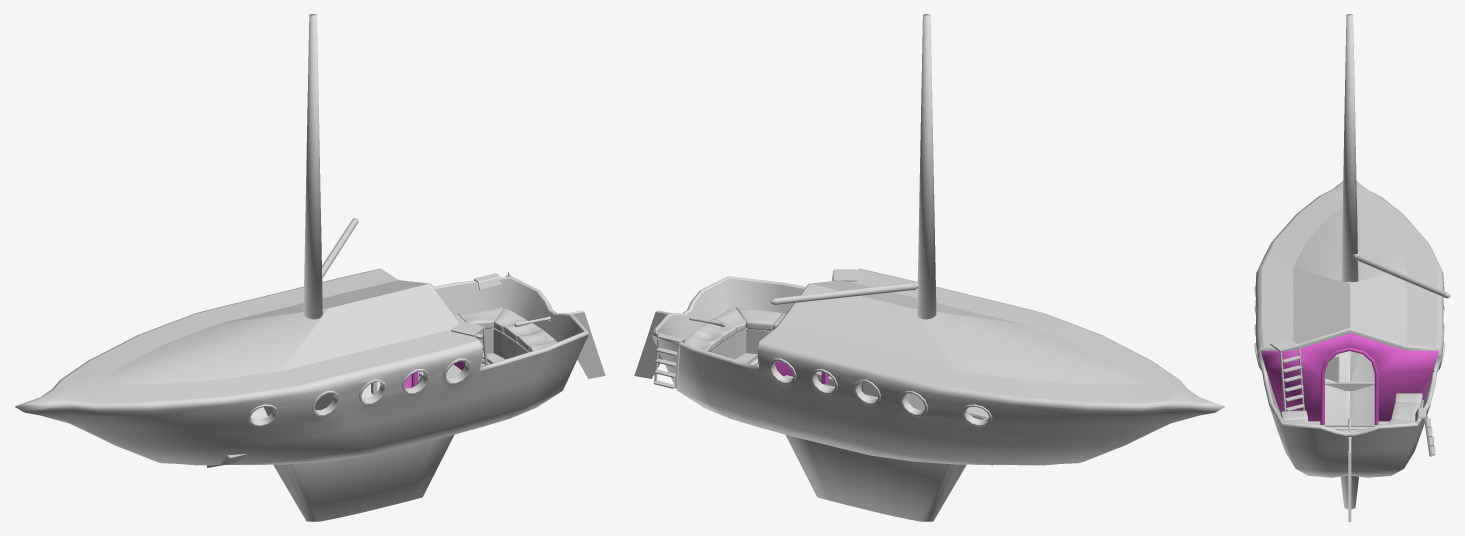
Rendered from boatchopped.fbx.
3 views of the same model, side by side, from view 1: azimuth 30°, elevation 25°; view 2: azimuth 150°, elevation 25°; view 3: azimuth 270°, elevation 25° (orthographic). The views are drawn at different scales.
Visible parts, largest first — view 1: outerhull, roof, topdeck, Keel, Mast, innerhull, Benchpadding, trim, rudder, bench; view 2: outerhull, roof, topdeck, Keel, Mast, innerhull, Benchpadding, trim, boom, rudder, bench, ladder.001; view 3: roof, topdeck, outerhull, interior wall 1.002, Mast, innerhull, trim, Benchpadding, ladder, doorframe, boom, Keel (+4 smaller).
Part boxes in pixels (x1,y1,x2,y2): outerhull: [15, 268, 588, 465]; roof: [35, 280, 459, 401]; topdeck: [54, 269, 478, 403]; Keel: [273, 434, 454, 521]; Mast: [303, 14, 322, 319]; innerhull: [251, 278, 583, 419]; Benchpadding: [454, 307, 557, 351]; trim: [397, 276, 588, 371]; rudder: [514, 310, 605, 378]; bench: [476, 328, 528, 359]; outerhull: [651, 268, 1224, 465]; roof: [778, 280, 1204, 401]; topdeck: [761, 269, 1185, 403]; Keel: [785, 434, 966, 521]; Mast: [917, 14, 936, 319]; innerhull: [656, 278, 804, 340]; Benchpadding: [685, 307, 785, 351]; trim: [651, 276, 809, 371]; boom: [770, 282, 918, 304]; rudder: [634, 310, 725, 378]; bench: [711, 328, 771, 359]; ladder.001: [653, 333, 685, 388]; roof: [1293, 183, 1406, 345]; topdeck: [1262, 188, 1437, 346]; outerhull: [1255, 180, 1443, 477]; interior wall 1.002: [1261, 333, 1438, 424]; Mast: [1341, 14, 1358, 281]; innerhull: [1267, 351, 1434, 438]; trim: [1257, 328, 1441, 435]; Benchpadding: [1280, 393, 1422, 431]; ladder: [1270, 338, 1304, 411]; doorframe: [1320, 347, 1378, 424]; boom: [1353, 253, 1450, 298]; Keel: [1340, 476, 1358, 509].
Size of the model in its own units: 1833 by 1503 by 596.
